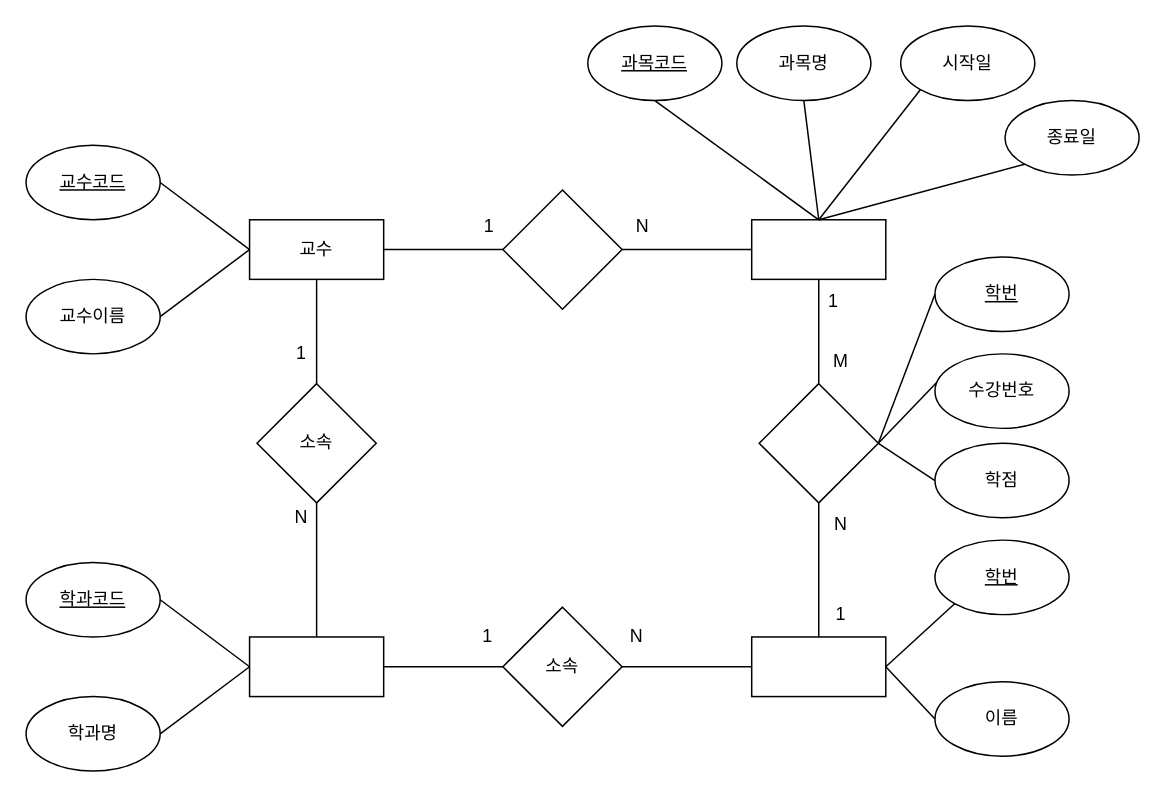
Image size: 1165x797. Some labels were removed from this diagram. Each missing label, with the centre of its shape:
강의: point 561,248
과목: point 818,248
수강: point 818,442
학과: point 316,666
학생: point 818,666
